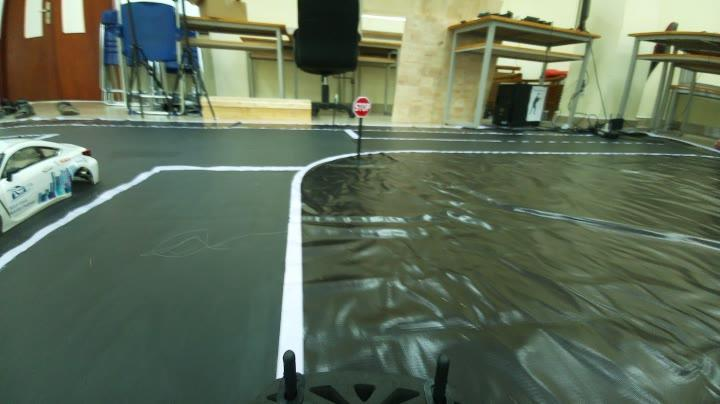stop: (346, 94, 382, 118)
